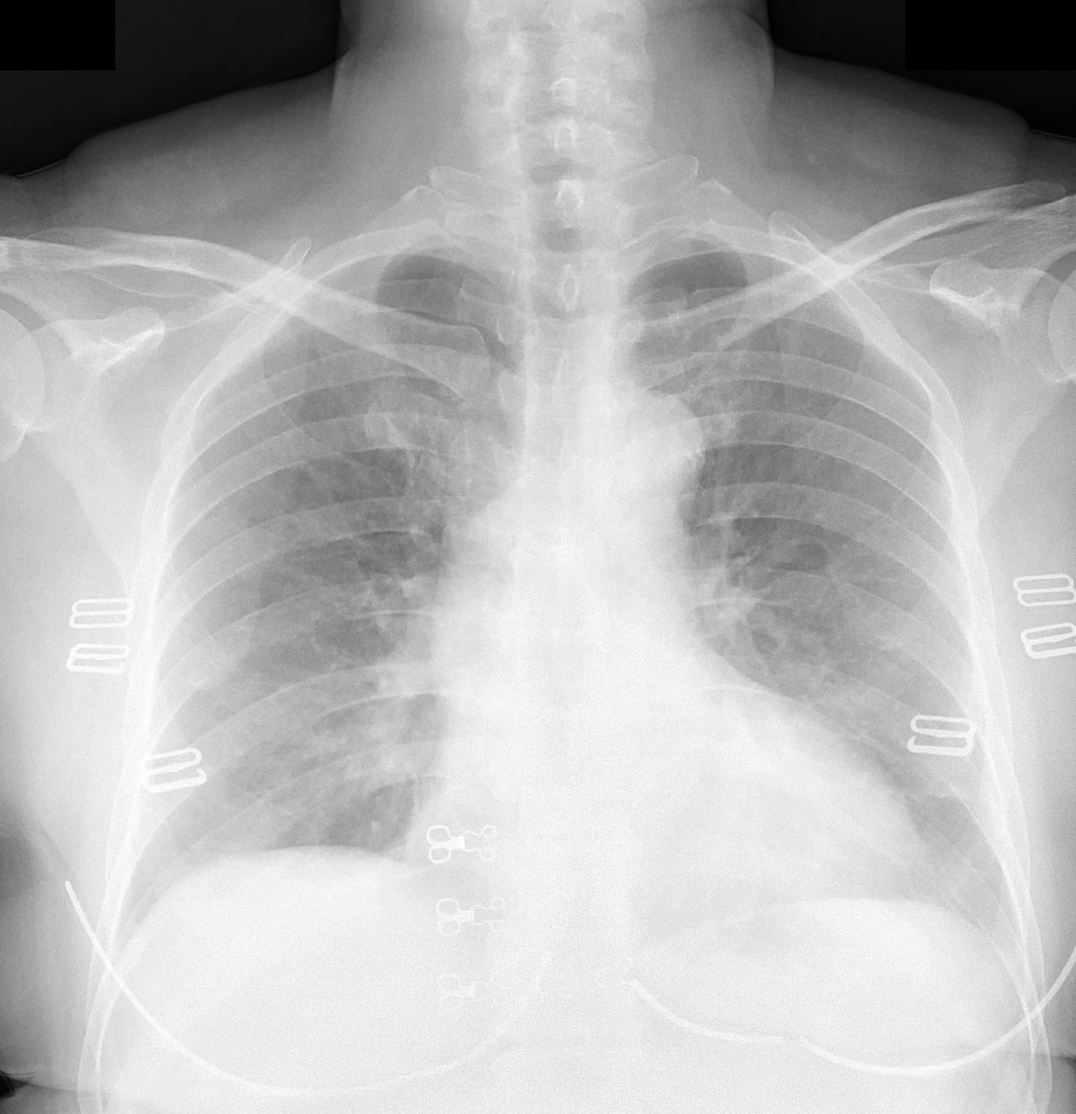Aortic enlargement: (589, 394, 702, 522)
Cardiomegaly: (389, 738, 930, 895)
